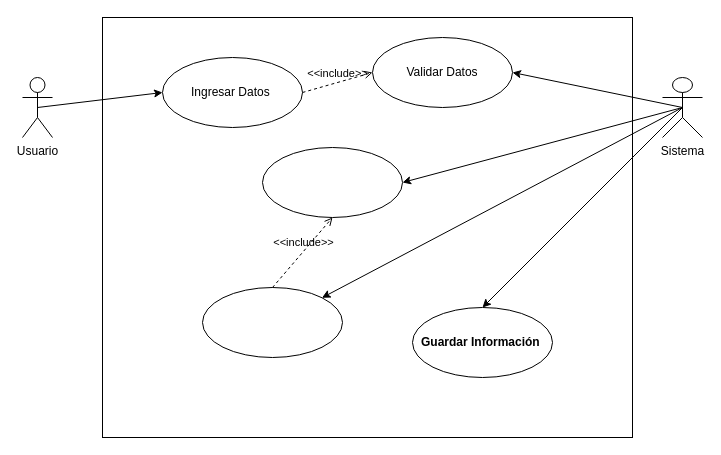
The diagram is 721 pixels wide and 455 high, and some of its shapes have lost their labels. Here are the shapes that lost their labels. From the top down, the box of each, then its label:
(262, 146, 402, 218): Presentar Información
(202, 286, 342, 358): Leer Archivo
